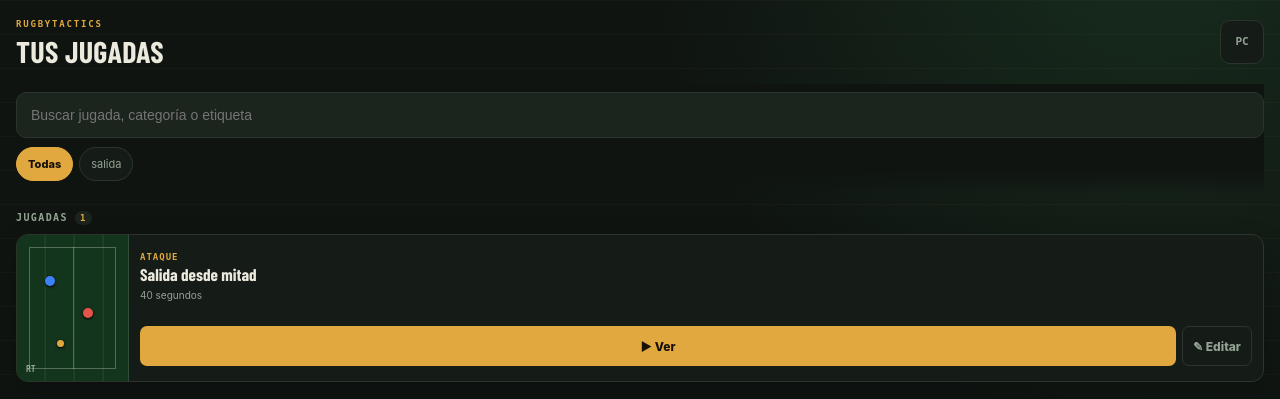
Test: MobileLibrary › filters by search and tags
The width and height of the screenshot is (1280, 399).
Type "defensa" into the search field. click: (640, 114)
box: [16, 92, 1264, 138]
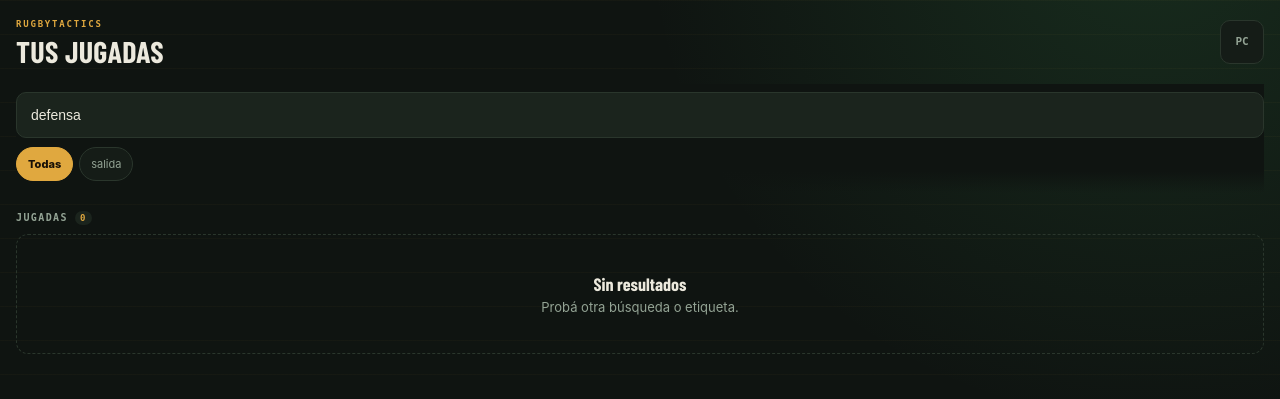
Result: the heading "Salida desde mitad" is gone
